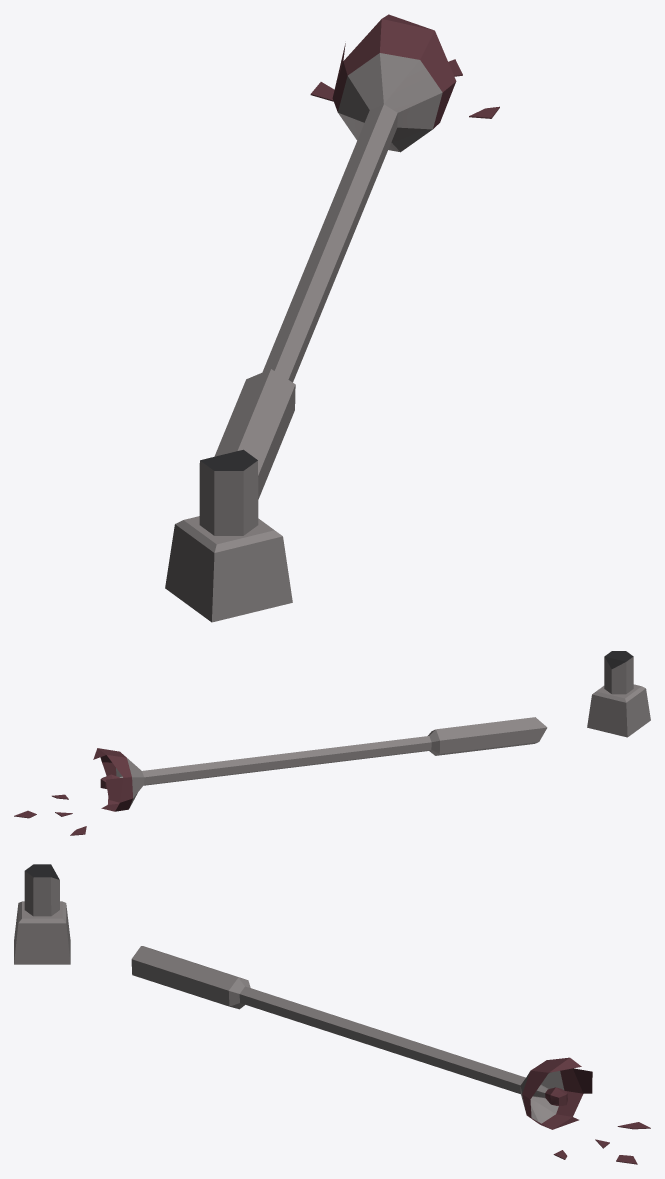
File: lamp-city-apocalypse-b.fbx
3 renders of one model, top to bottom at view 1: azimuth 30°, elevation 25°; view 2: azimuth 150°, elevation 25°; view 3: azimuth 270°, elevation 25°, orthographic. The views are drawn at different scales.
Visible parts, largest first — view 1: lamp-city-apocalypse-b; view 2: lamp-city-apocalypse-b; view 3: lamp-city-apocalypse-b.
Boxes of the visible parts, x1,y1,x2,y2 form: lamp-city-apocalypse-b: [165, 14, 499, 622]; lamp-city-apocalypse-b: [14, 651, 650, 835]; lamp-city-apocalypse-b: [14, 864, 650, 1164].
Bounding box in the file's own units: 5.15 × 0.88 × 6.18.
